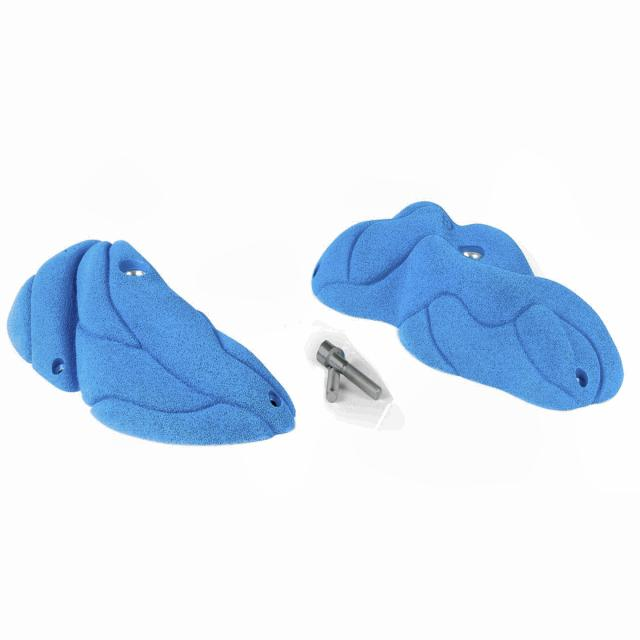Hold: (311, 194, 625, 408), (7, 226, 296, 444)
